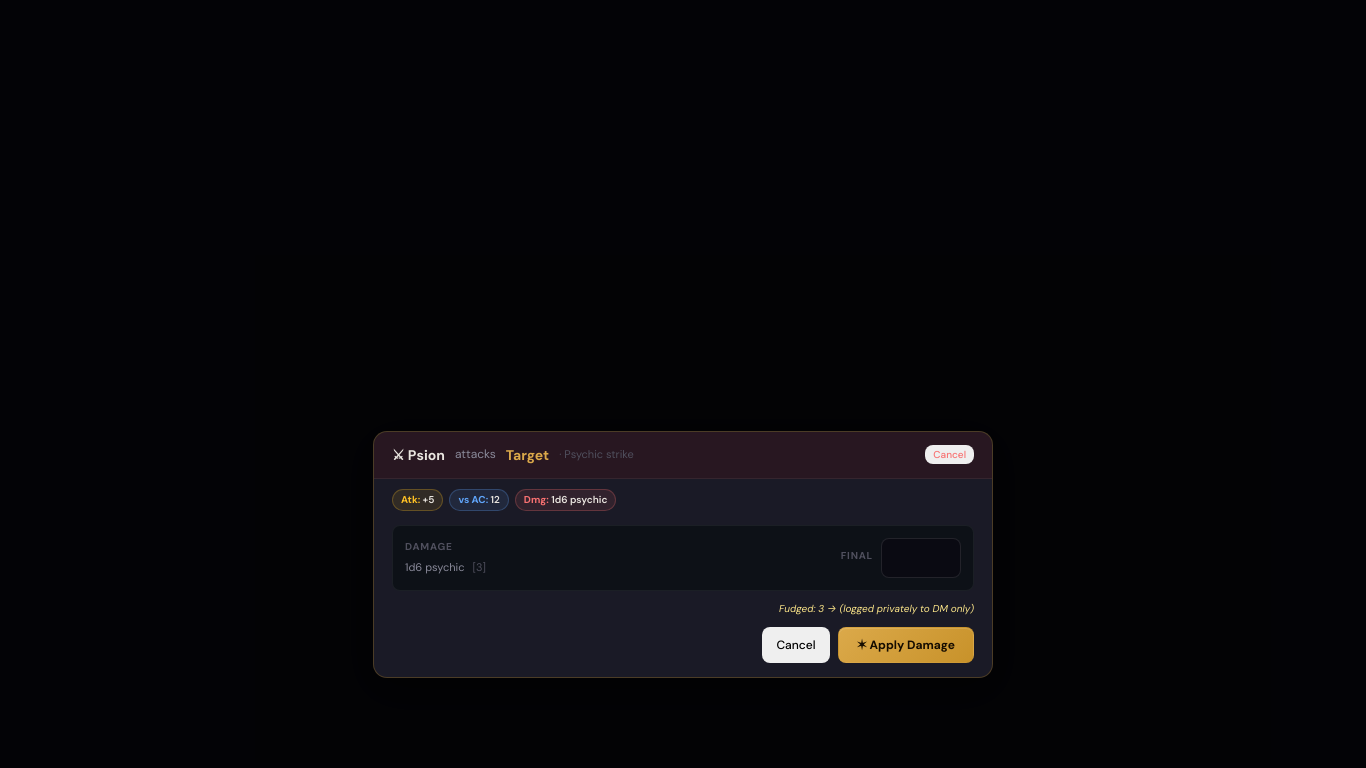
Test case: failed damage adjustment does not continue into HP application
The image size is (1366, 768).
Type "5" into the number field at (921, 558), box 881,538 -> 961,578
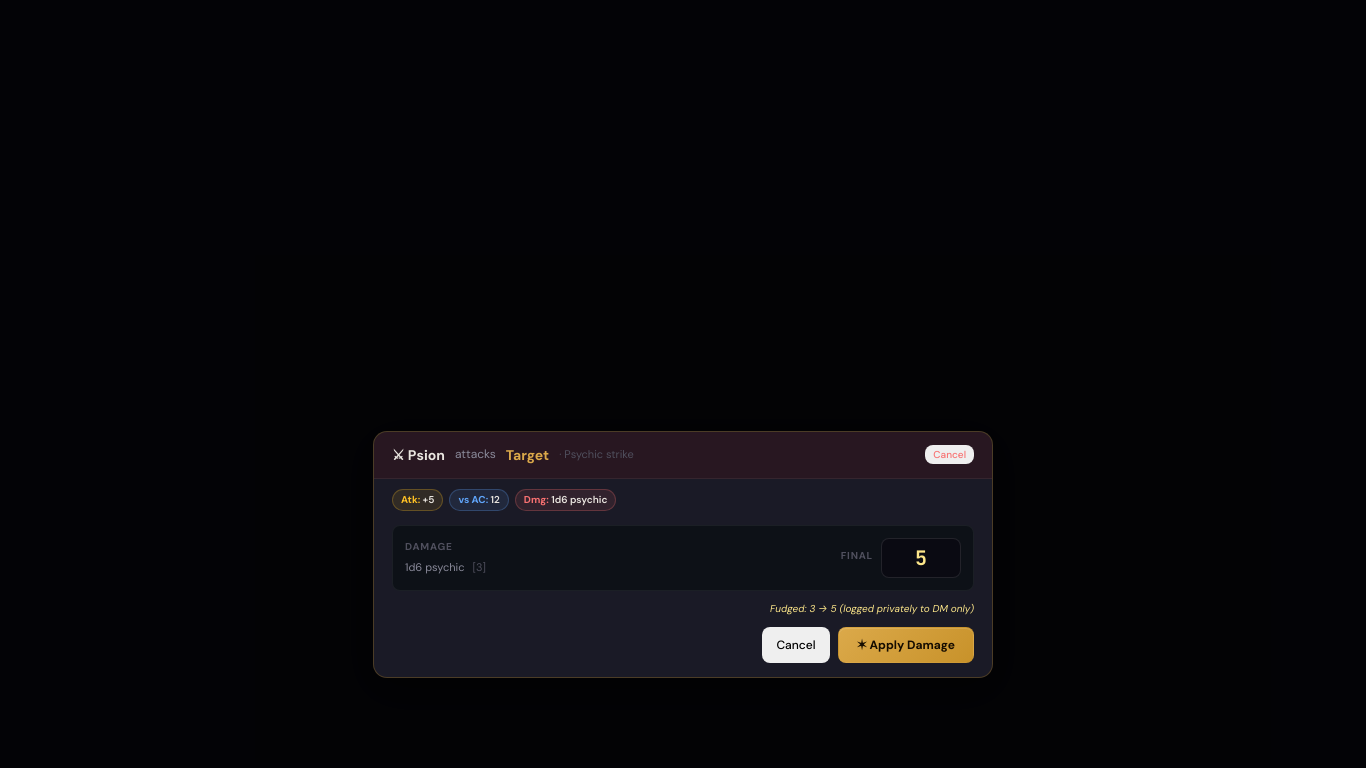
Click the button "✶ Apply Damage" at (906, 645), box 838,627 -> 974,663
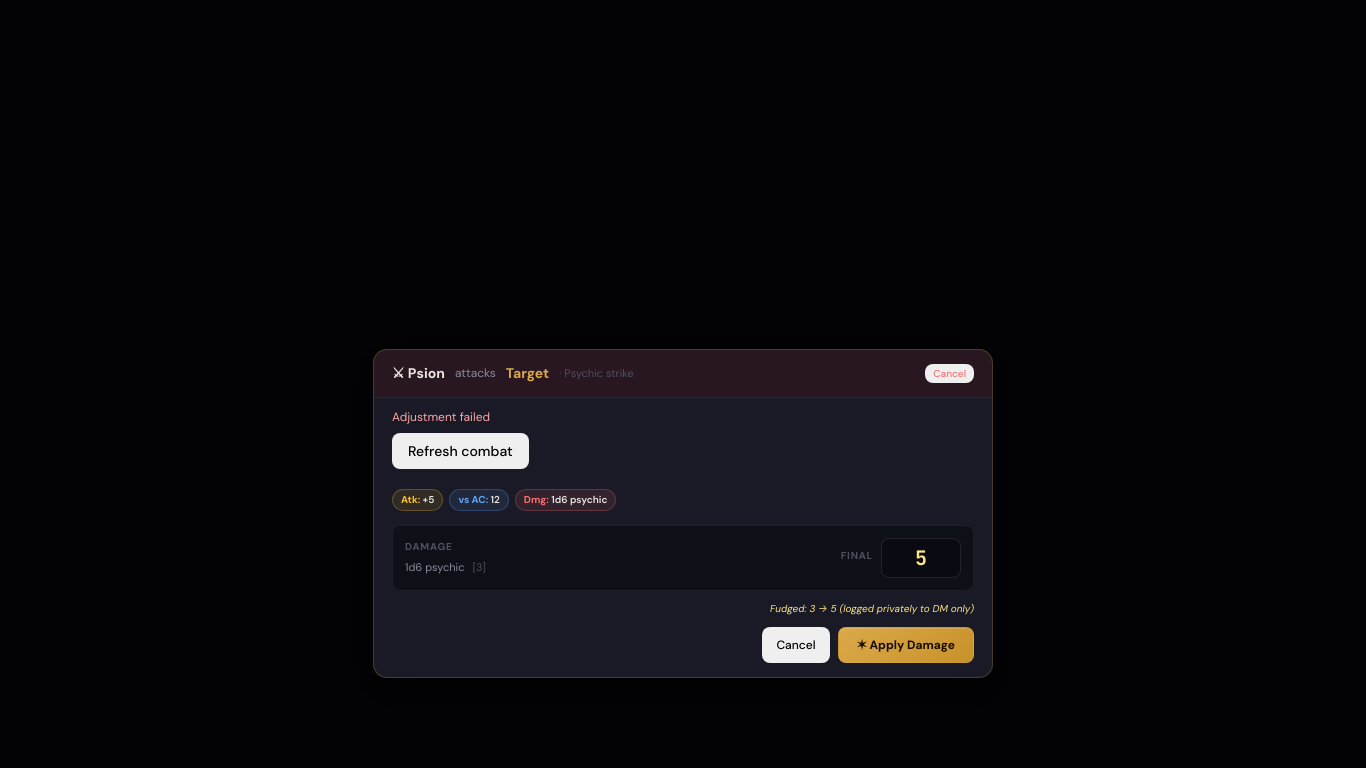
Check: the message shows "Adjustment failed", box 392,409 -> 490,425
